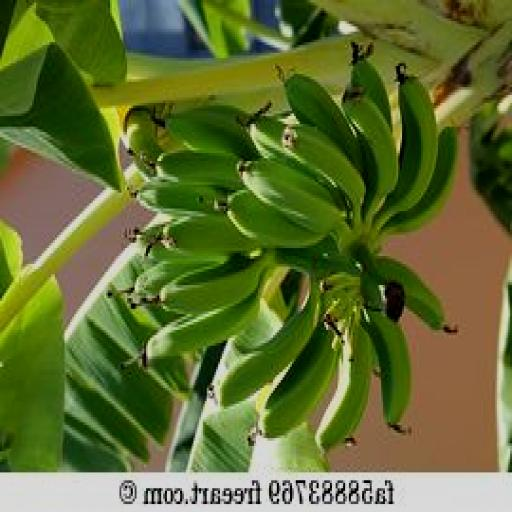banana-unripe: (78, 58, 494, 459)
